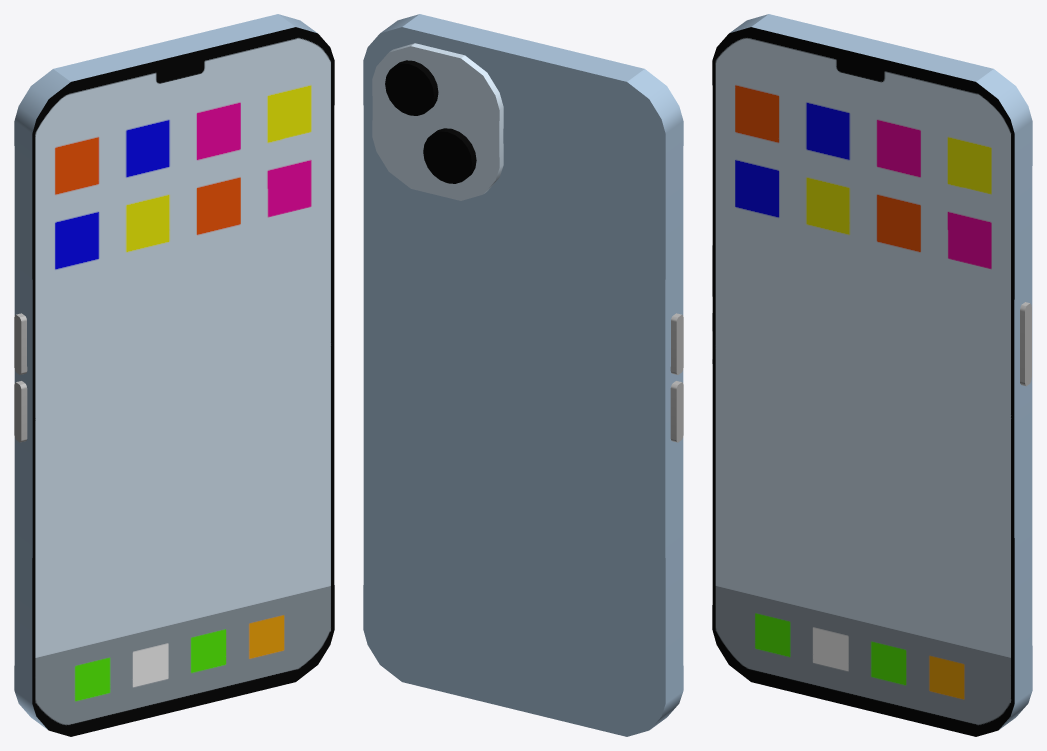
Rendered from Smartphoneenemy.fbx.
The picture shows the model from 3 angles, left to right: view 1: azimuth 30°, elevation 25°; view 2: azimuth 150°, elevation 25°; view 3: azimuth 330°, elevation 25°; orthographic projection.
Visible parts, largest first — view 1: pCubeShape1; view 2: pCubeShape1; view 3: pCubeShape1.
Boxes of the visible parts, x1,y1,x2,y2 form: pCubeShape1: (14, 14, 334, 736); pCubeShape1: (363, 14, 683, 736); pCubeShape1: (712, 14, 1032, 736).
Bounding box in the file's own units: 0.9274 × 1.86 × 0.1357.
1 material, 1 textured.
